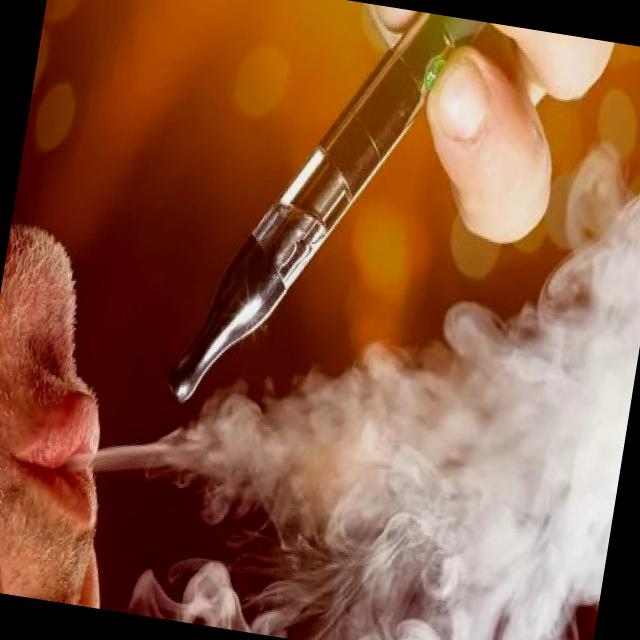smoke: (162, 0, 494, 450)
